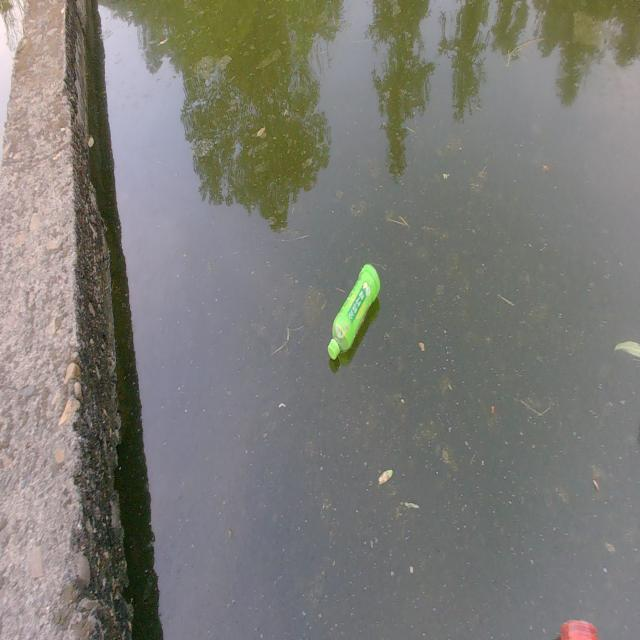bottle: (322, 243, 391, 369)
